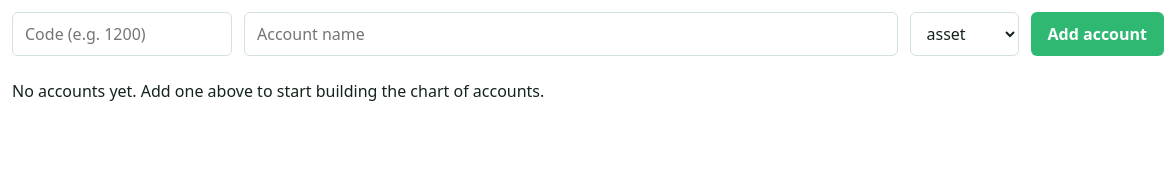
Test: ChartOfAccountsScreen › shows empty state then creates an account with engine-derived normal balance
Expected: the text "No accounts yet" is shown, [12,80,544,102]
Type "1200" into the field with placeholder "Code (e.g. 1200)". click: {"x": 122, "y": 34}
box: [12,12,232,56]
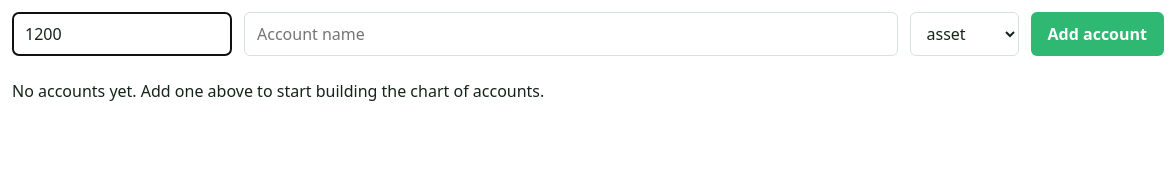
Type "Bank" into the field with placeholder "Account name". click: {"x": 571, "y": 34}
box: [244,12,898,56]
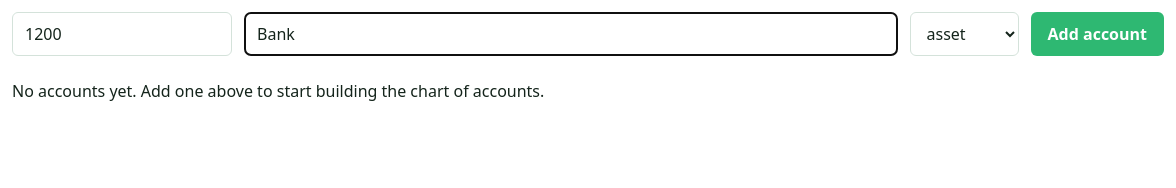
Click the button "Add account". click: {"x": 1097, "y": 34}
box: [1030,12,1164,56]
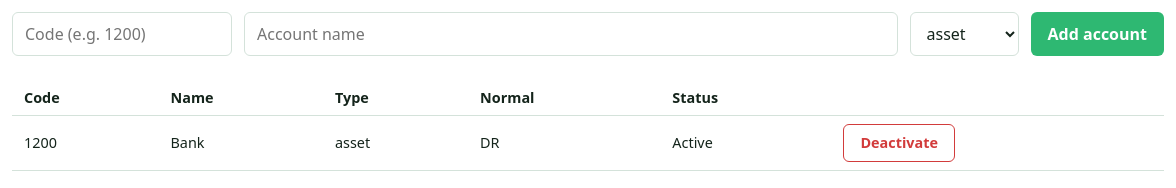
Expected: the text "Bank" is shown, [158,115,323,171]
Expected: the text "DR" is shown, [468,115,660,171]
